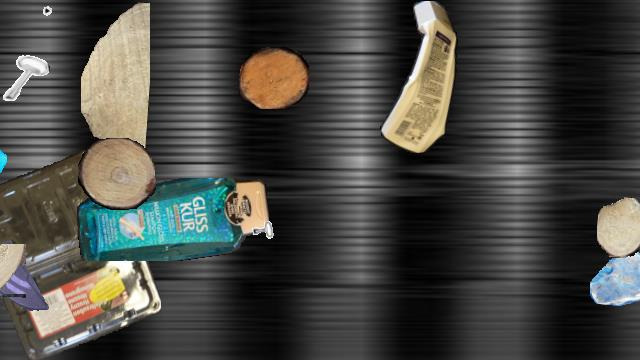glass: (0, 234, 54, 314), (590, 247, 640, 305), (0, 139, 6, 207), (0, 275, 4, 359)
metal: (0, 52, 49, 102), (243, 197, 287, 241), (42, 1, 82, 41)
plastic: (0, 149, 161, 359), (77, 178, 269, 260), (374, 1, 462, 153)
wood: (81, 1, 149, 159), (78, 138, 156, 210), (239, 47, 309, 109), (597, 197, 640, 257), (0, 244, 26, 304)
